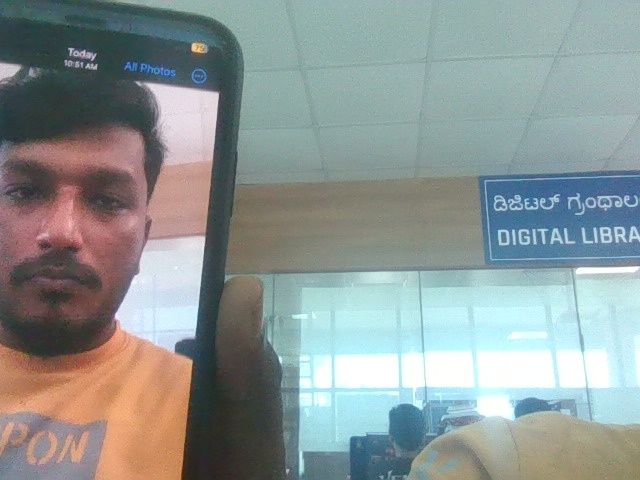fake: (0, 35, 231, 363)
